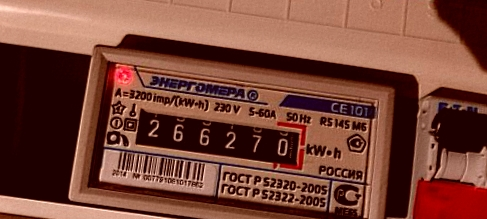0: (274, 136, 290, 157)
2: (145, 117, 162, 139), (222, 129, 239, 151)
6: (170, 121, 186, 144), (197, 126, 213, 148)
7: (248, 133, 262, 153)
screen: (125, 97, 314, 177)
